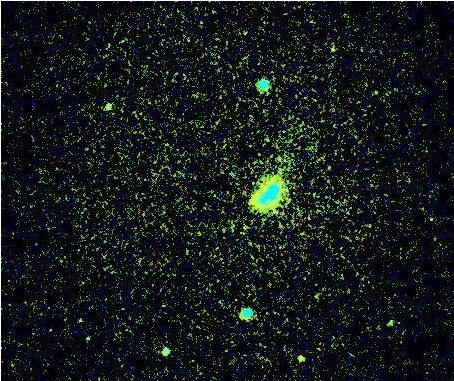star: (286, 345, 316, 375)
